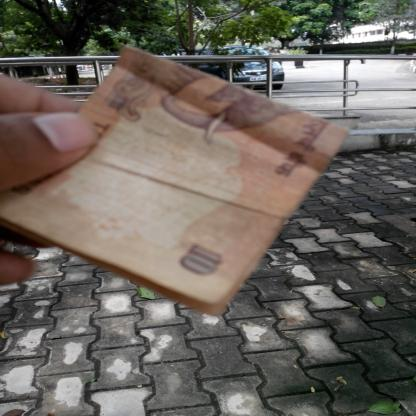Old10Back: (0, 44, 353, 314)
